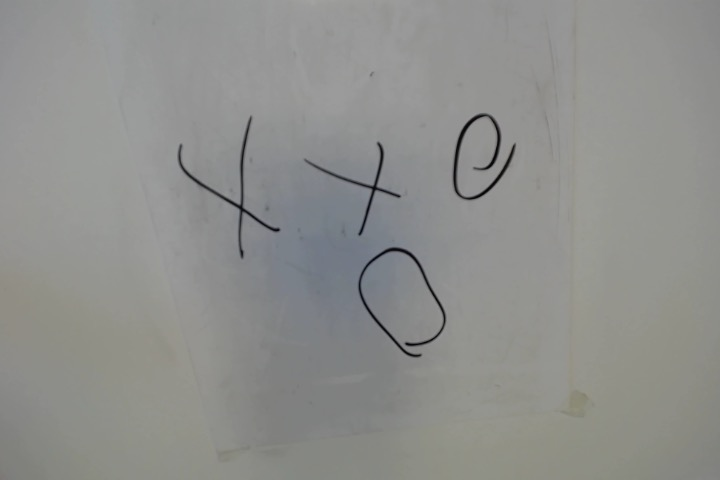0: (351, 246, 452, 363), (450, 107, 519, 212)
x: (172, 120, 286, 260), (303, 137, 407, 231)
